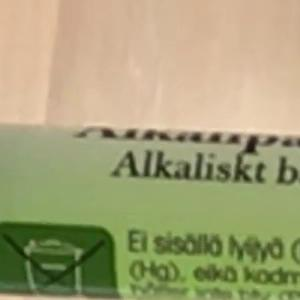ALK: (101, 140, 169, 191)
